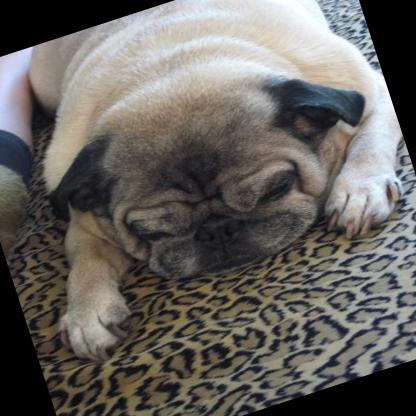pug: (0, 0, 416, 370)
